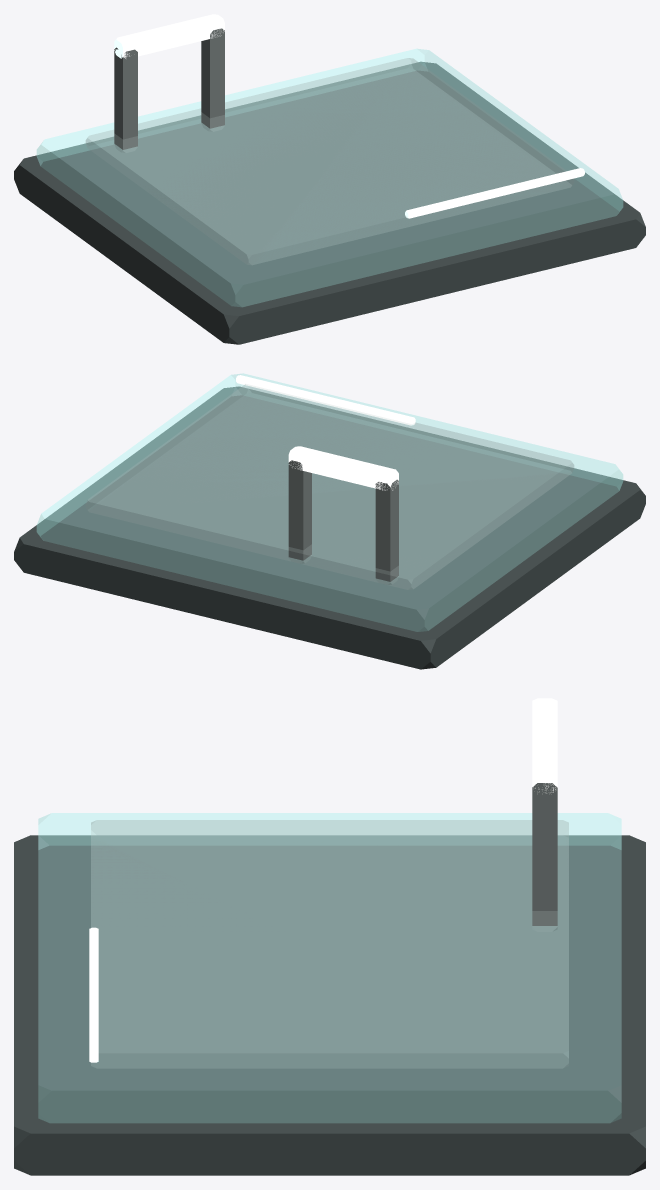
Rendered from domain-platform.glb.
3 renders of one model, top to bottom at view 1: azimuth 30°, elevation 25°; view 2: azimuth 150°, elevation 25°; view 3: azimuth 270°, elevation 25°, orthographic. The views are drawn at different scales.
Parts seen in each view (by area): view 1: Zone_Base, Zone_Field, Zone_Inner, Zone_Threshold_Top, Zone_Threshold_Left, Zone_Threshold_Right, Zone_State; view 2: Zone_Base, Zone_Field, Zone_Inner, Zone_Threshold_Top, Zone_Threshold_Left, Zone_Threshold_Right, Zone_State; view 3: Zone_Base, Zone_Field, Zone_Inner, Zone_Threshold_Right, Zone_Threshold_Top, Zone_State.
Part boxes in pixels (x1,y1,x2,y2): Zone_Base: [14, 61, 645, 344]; Zone_Field: [36, 48, 623, 306]; Zone_Inner: [86, 58, 573, 264]; Zone_Threshold_Top: [114, 14, 224, 58]; Zone_Threshold_Left: [114, 47, 137, 152]; Zone_Threshold_Right: [201, 28, 224, 131]; Zone_State: [405, 168, 584, 218]; Zone_Base: [14, 386, 645, 669]; Zone_Field: [36, 373, 623, 631]; Zone_Inner: [86, 384, 573, 589]; Zone_Threshold_Top: [288, 446, 398, 490]; Zone_Threshold_Left: [375, 479, 398, 584]; Zone_Threshold_Right: [288, 460, 311, 563]; Zone_State: [236, 375, 415, 425]; Zone_Base: [14, 835, 645, 1175]; Zone_Field: [38, 813, 621, 1122]; Zone_Inner: [91, 820, 568, 1068]; Zone_Threshold_Right: [532, 783, 557, 931]; Zone_Threshold_Top: [532, 698, 557, 793]; Zone_State: [89, 927, 98, 1062].
Bounding box in the file's own units: 3.35 × 1.2 × 3.
